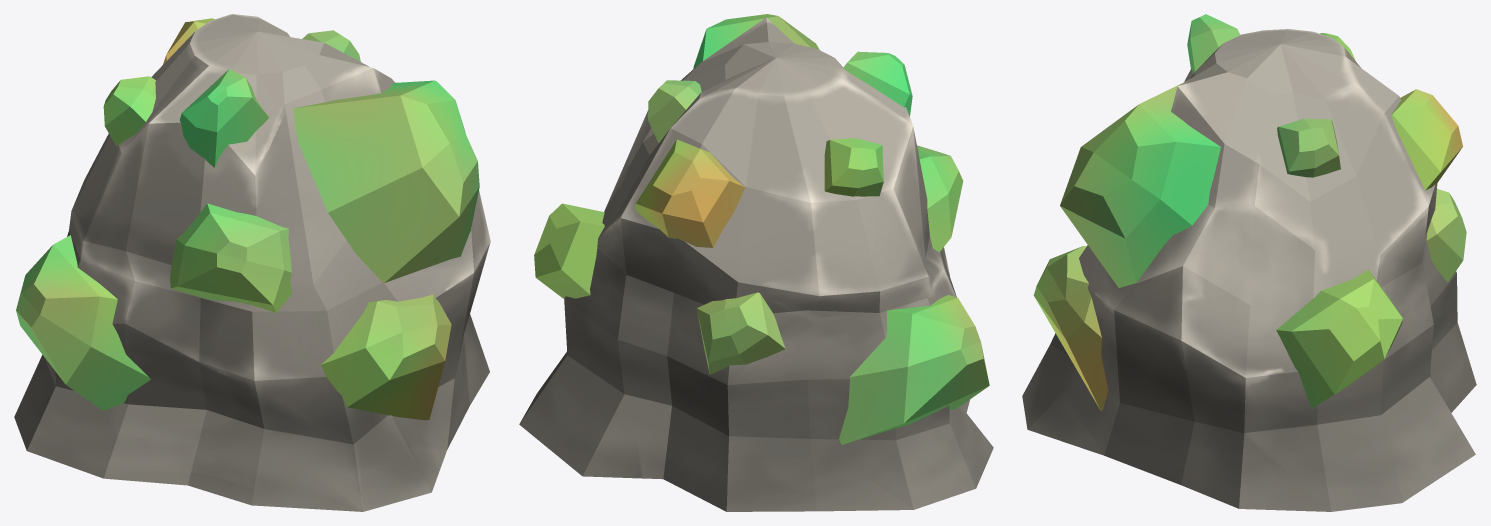
File: green-ore.glb
The picture shows the model from 3 angles, left to right: view 1: azimuth 30°, elevation 25°; view 2: azimuth 150°, elevation 25°; view 3: azimuth 270°, elevation 25°; orthographic projection. The views are drawn at different scales.
Visible parts, largest first — view 1: small_ore_3_Cube.029; view 2: small_ore_3_Cube.029; view 3: small_ore_3_Cube.029.
Boxes of the visible parts, x1,y1,x2,y2 form: small_ore_3_Cube.029: [14, 14, 490, 511]; small_ore_3_Cube.029: [519, 14, 993, 511]; small_ore_3_Cube.029: [1022, 14, 1476, 511].
Bounding box in the file's own units: 1.21 × 0.9989 × 1.13.
Materials: 2 (2 with a texture image).
